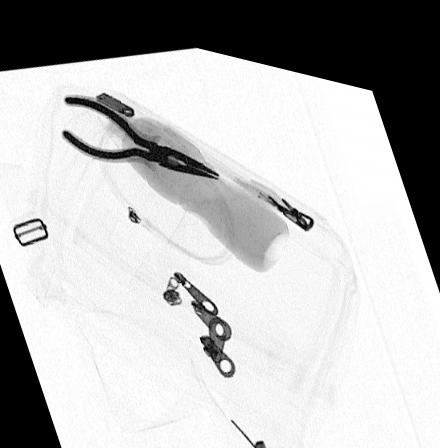Pliers: (59, 89, 222, 171)
